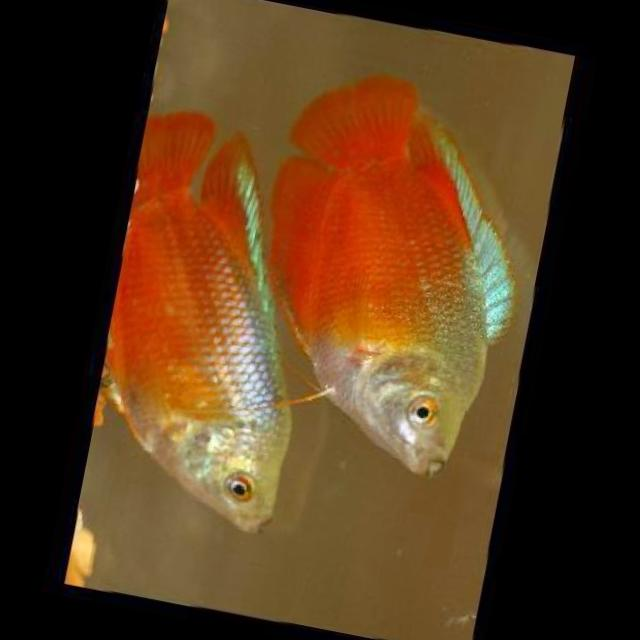Gourami: (223, 55, 572, 490), (68, 101, 355, 546)
